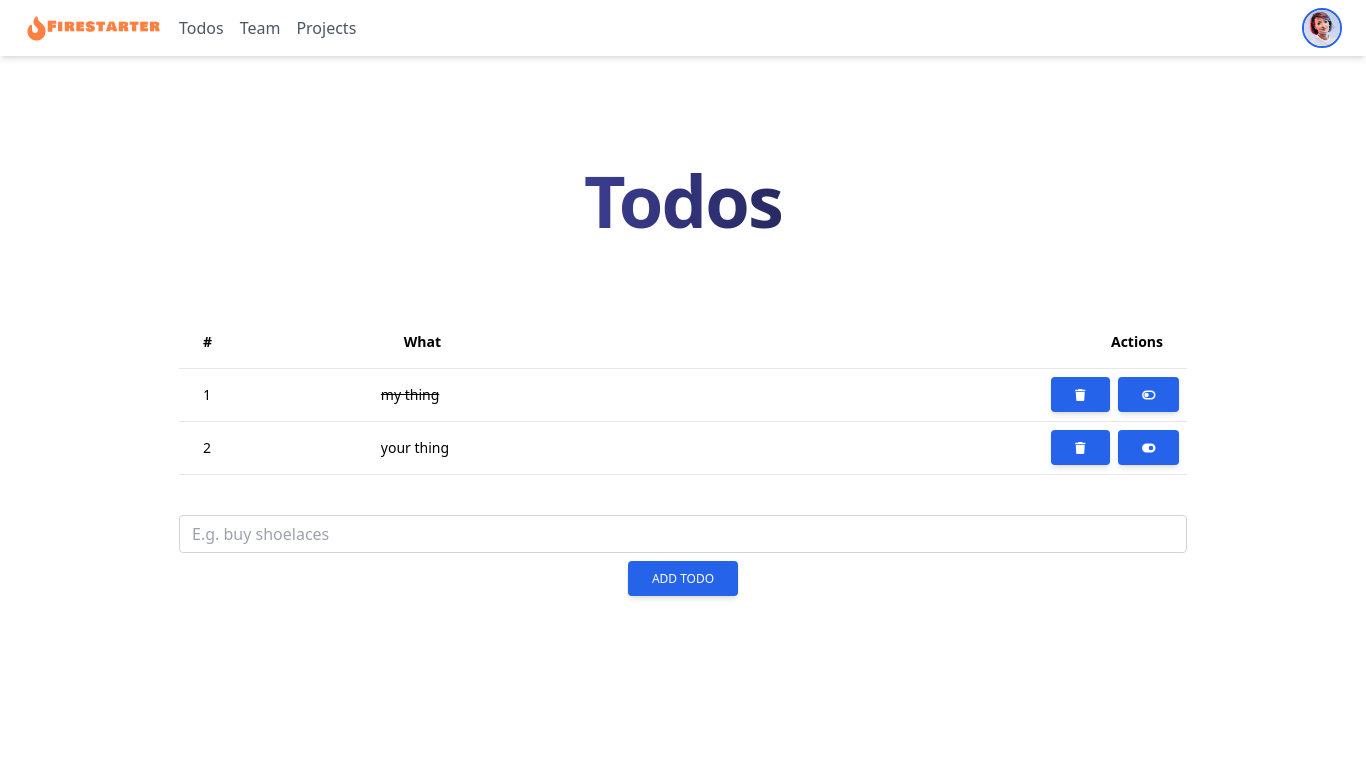
Test: Todos › it can remove an item
Expected: the cell "my thing" is shown, [380,368,680,422]
Click the button named "Remove 'my thing'": [1080, 394] box [1051,377,1110,412]
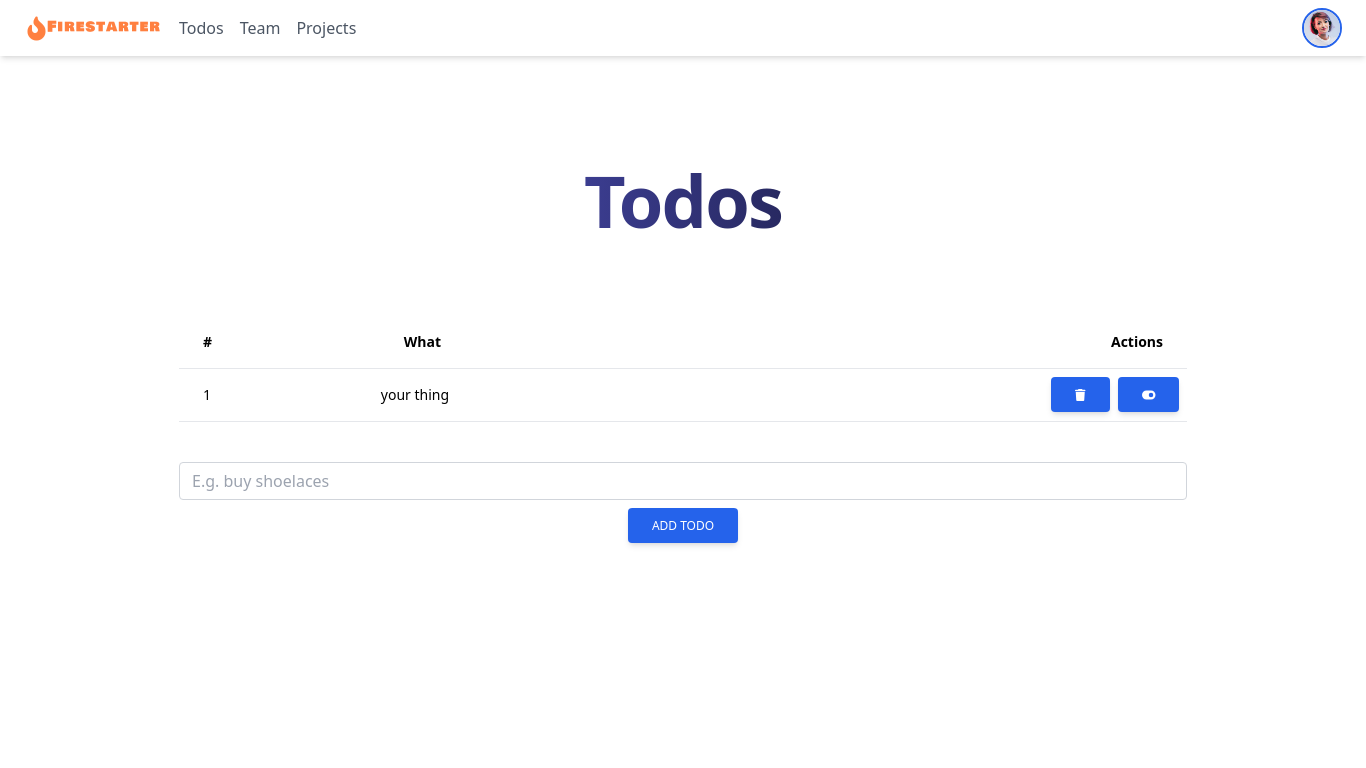
Expected: the cell "my thing" is gone
